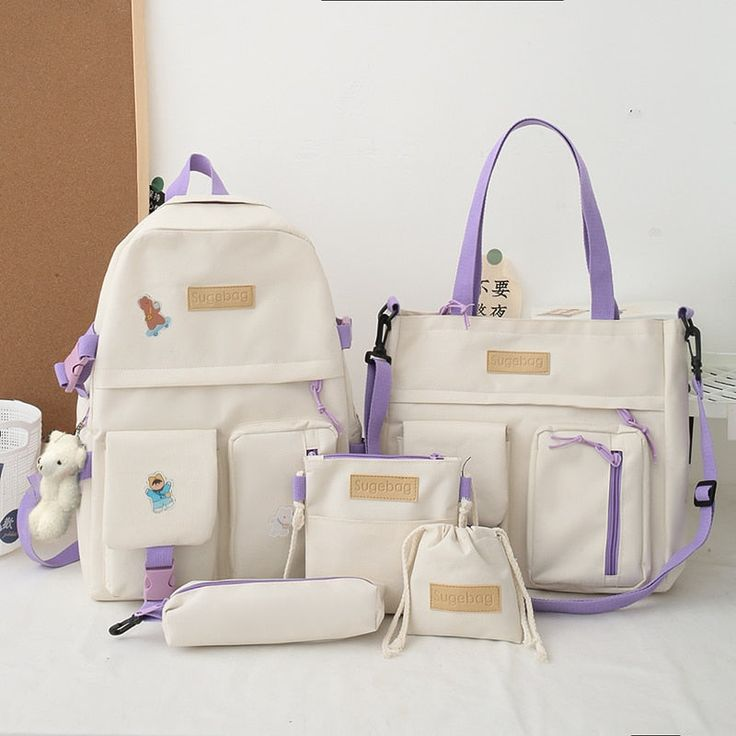nylon: (17, 118, 717, 648)
